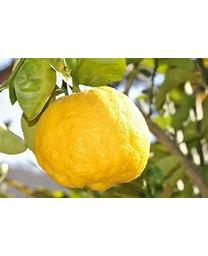lemon: (32, 87, 150, 191)
